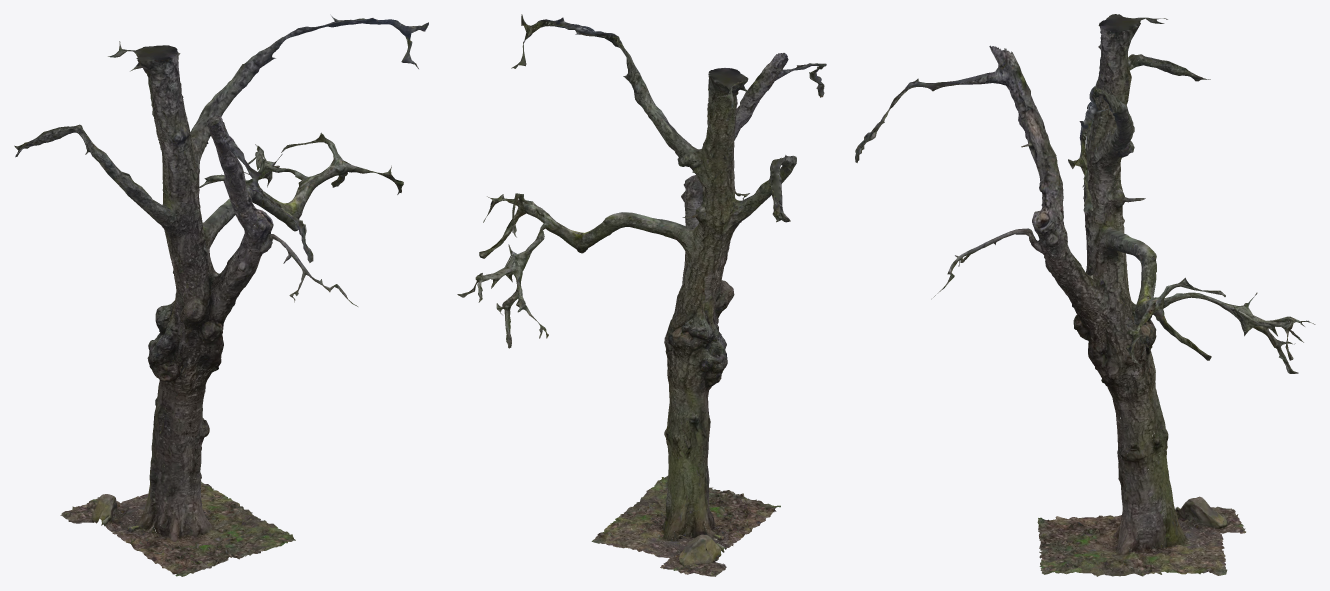
The model's file is cherry_tree.glb.
3 views of the same model, side by side, from view 1: azimuth 30°, elevation 25°; view 2: azimuth 150°, elevation 25°; view 3: azimuth 270°, elevation 25° (orthographic). The views are drawn at different scales.
Parts seen in each view (by area): view 1: meshNode; view 2: meshNode; view 3: meshNode.
Part boxes in pixels (x1,y1,x2,y2): meshNode: [14, 14, 428, 576]; meshNode: [457, 14, 826, 576]; meshNode: [855, 14, 1315, 576].
Bounding box in the file's own units: 2.85 × 3.76 × 3.09.
Materials: 2 (2 with a texture image).
